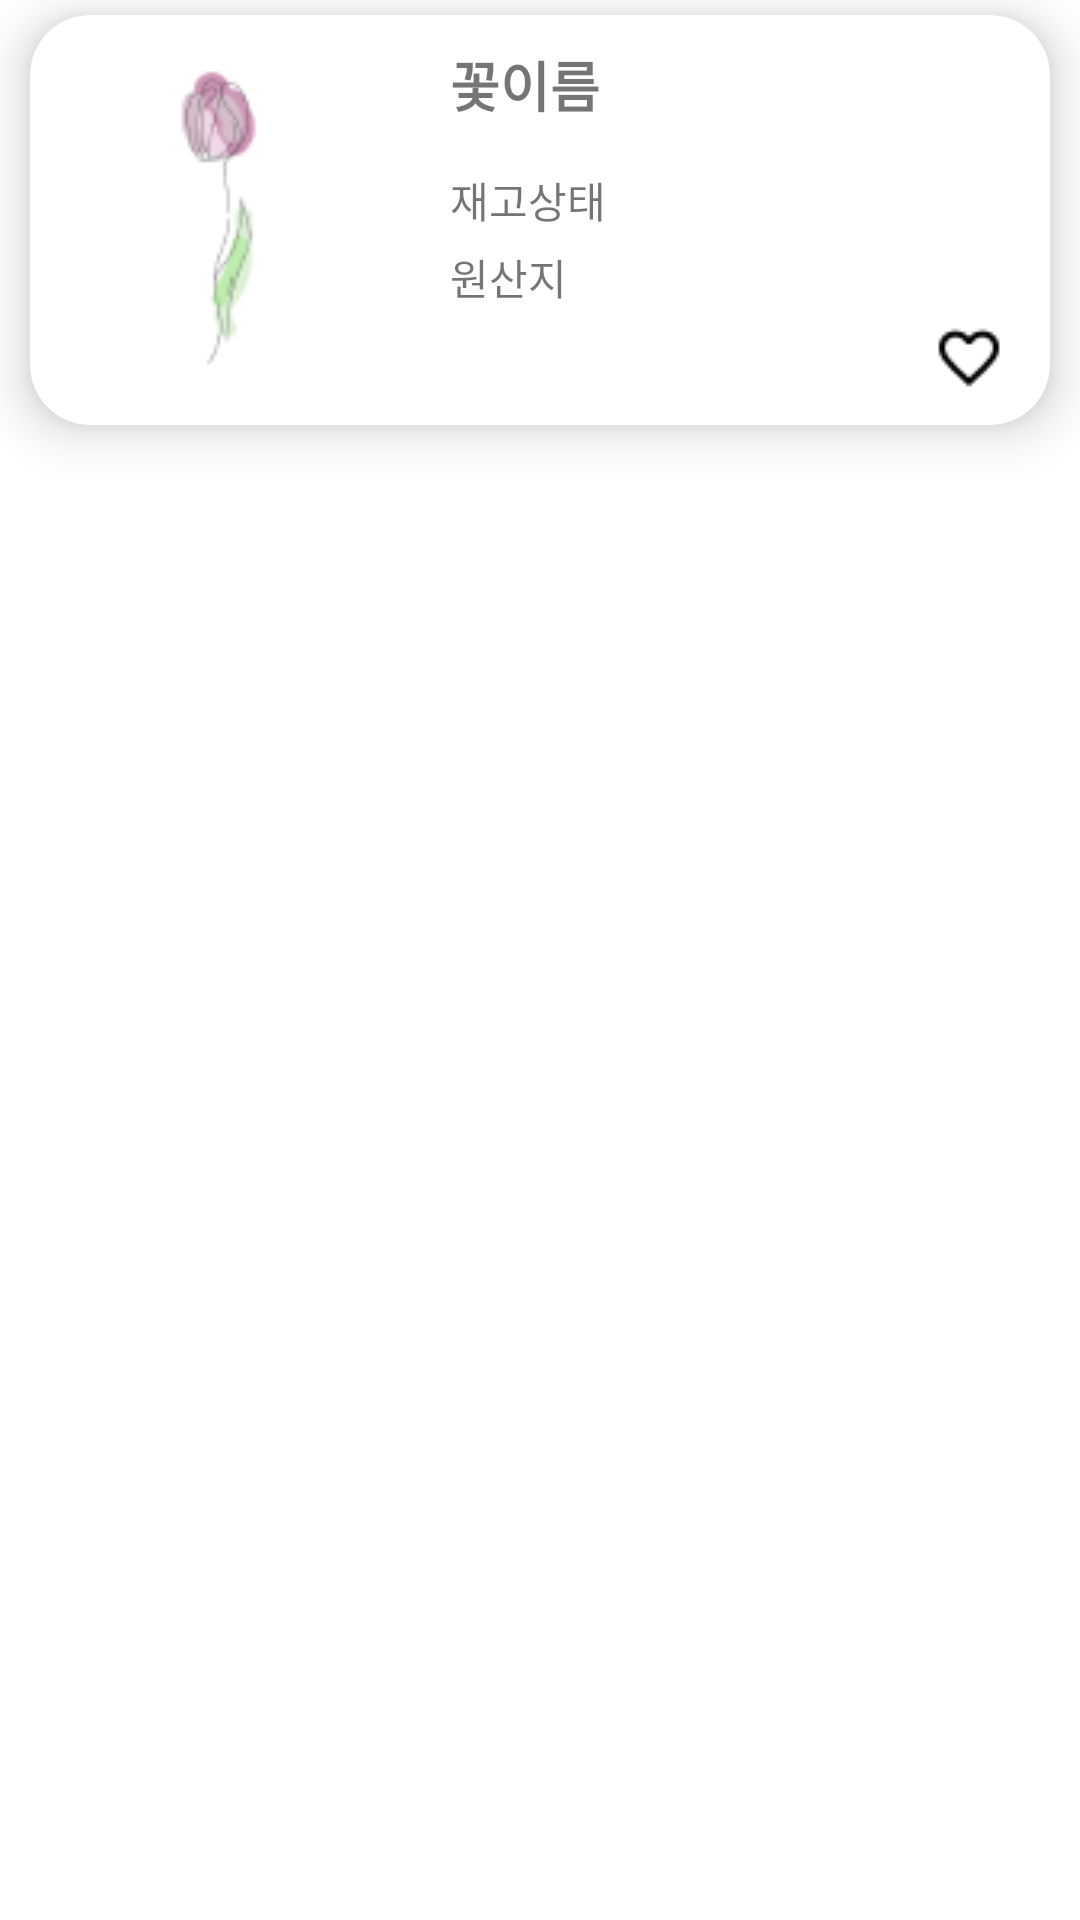

Where icons sit on this 1080px x 1920px app screen, as (x1, y1, x2, y2):
flower: (182, 71, 256, 363)
wish: (938, 328, 1000, 387)
